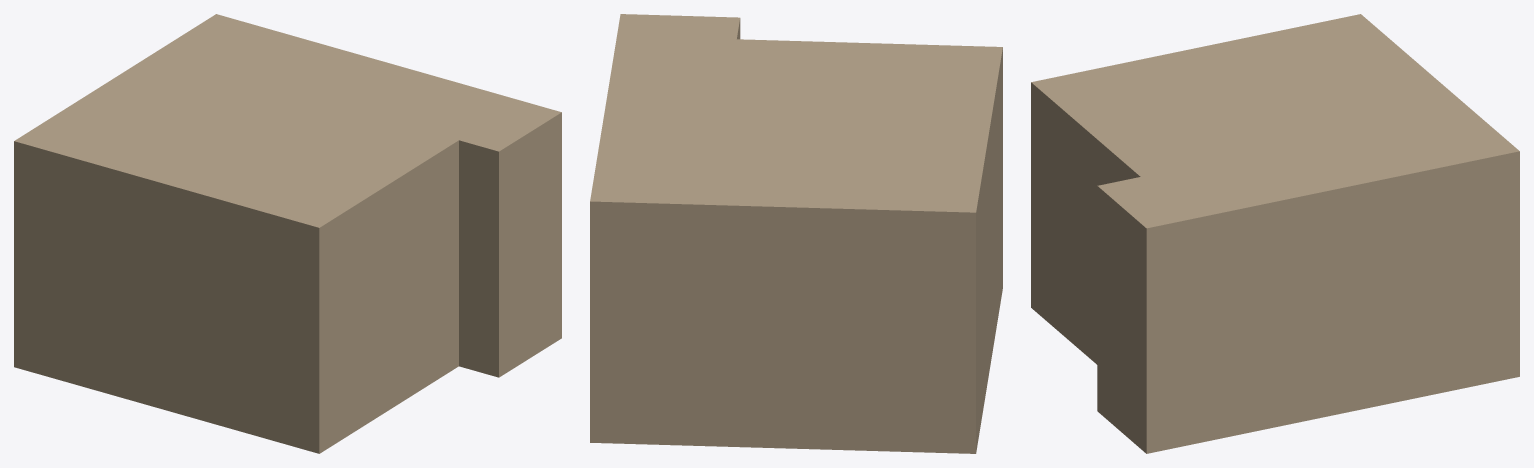
The model's file is bld_107610495.dae.
3 renders of one model, left to right at view 1: azimuth 30°, elevation 25°; view 2: azimuth 150°, elevation 25°; view 3: azimuth 270°, elevation 25°, orthographic. The views are drawn at different scales.
Visible parts, largest first — view 1: bld_107610495; view 2: bld_107610495; view 3: bld_107610495.
Part boxes in pixels (<box>): bld_107610495: <box>14,14,561,453</box>; bld_107610495: <box>590,14,1002,453</box>; bld_107610495: <box>1031,14,1519,453</box>.
Size of the model in its own units: 16.31 by 15.71 by 8.
